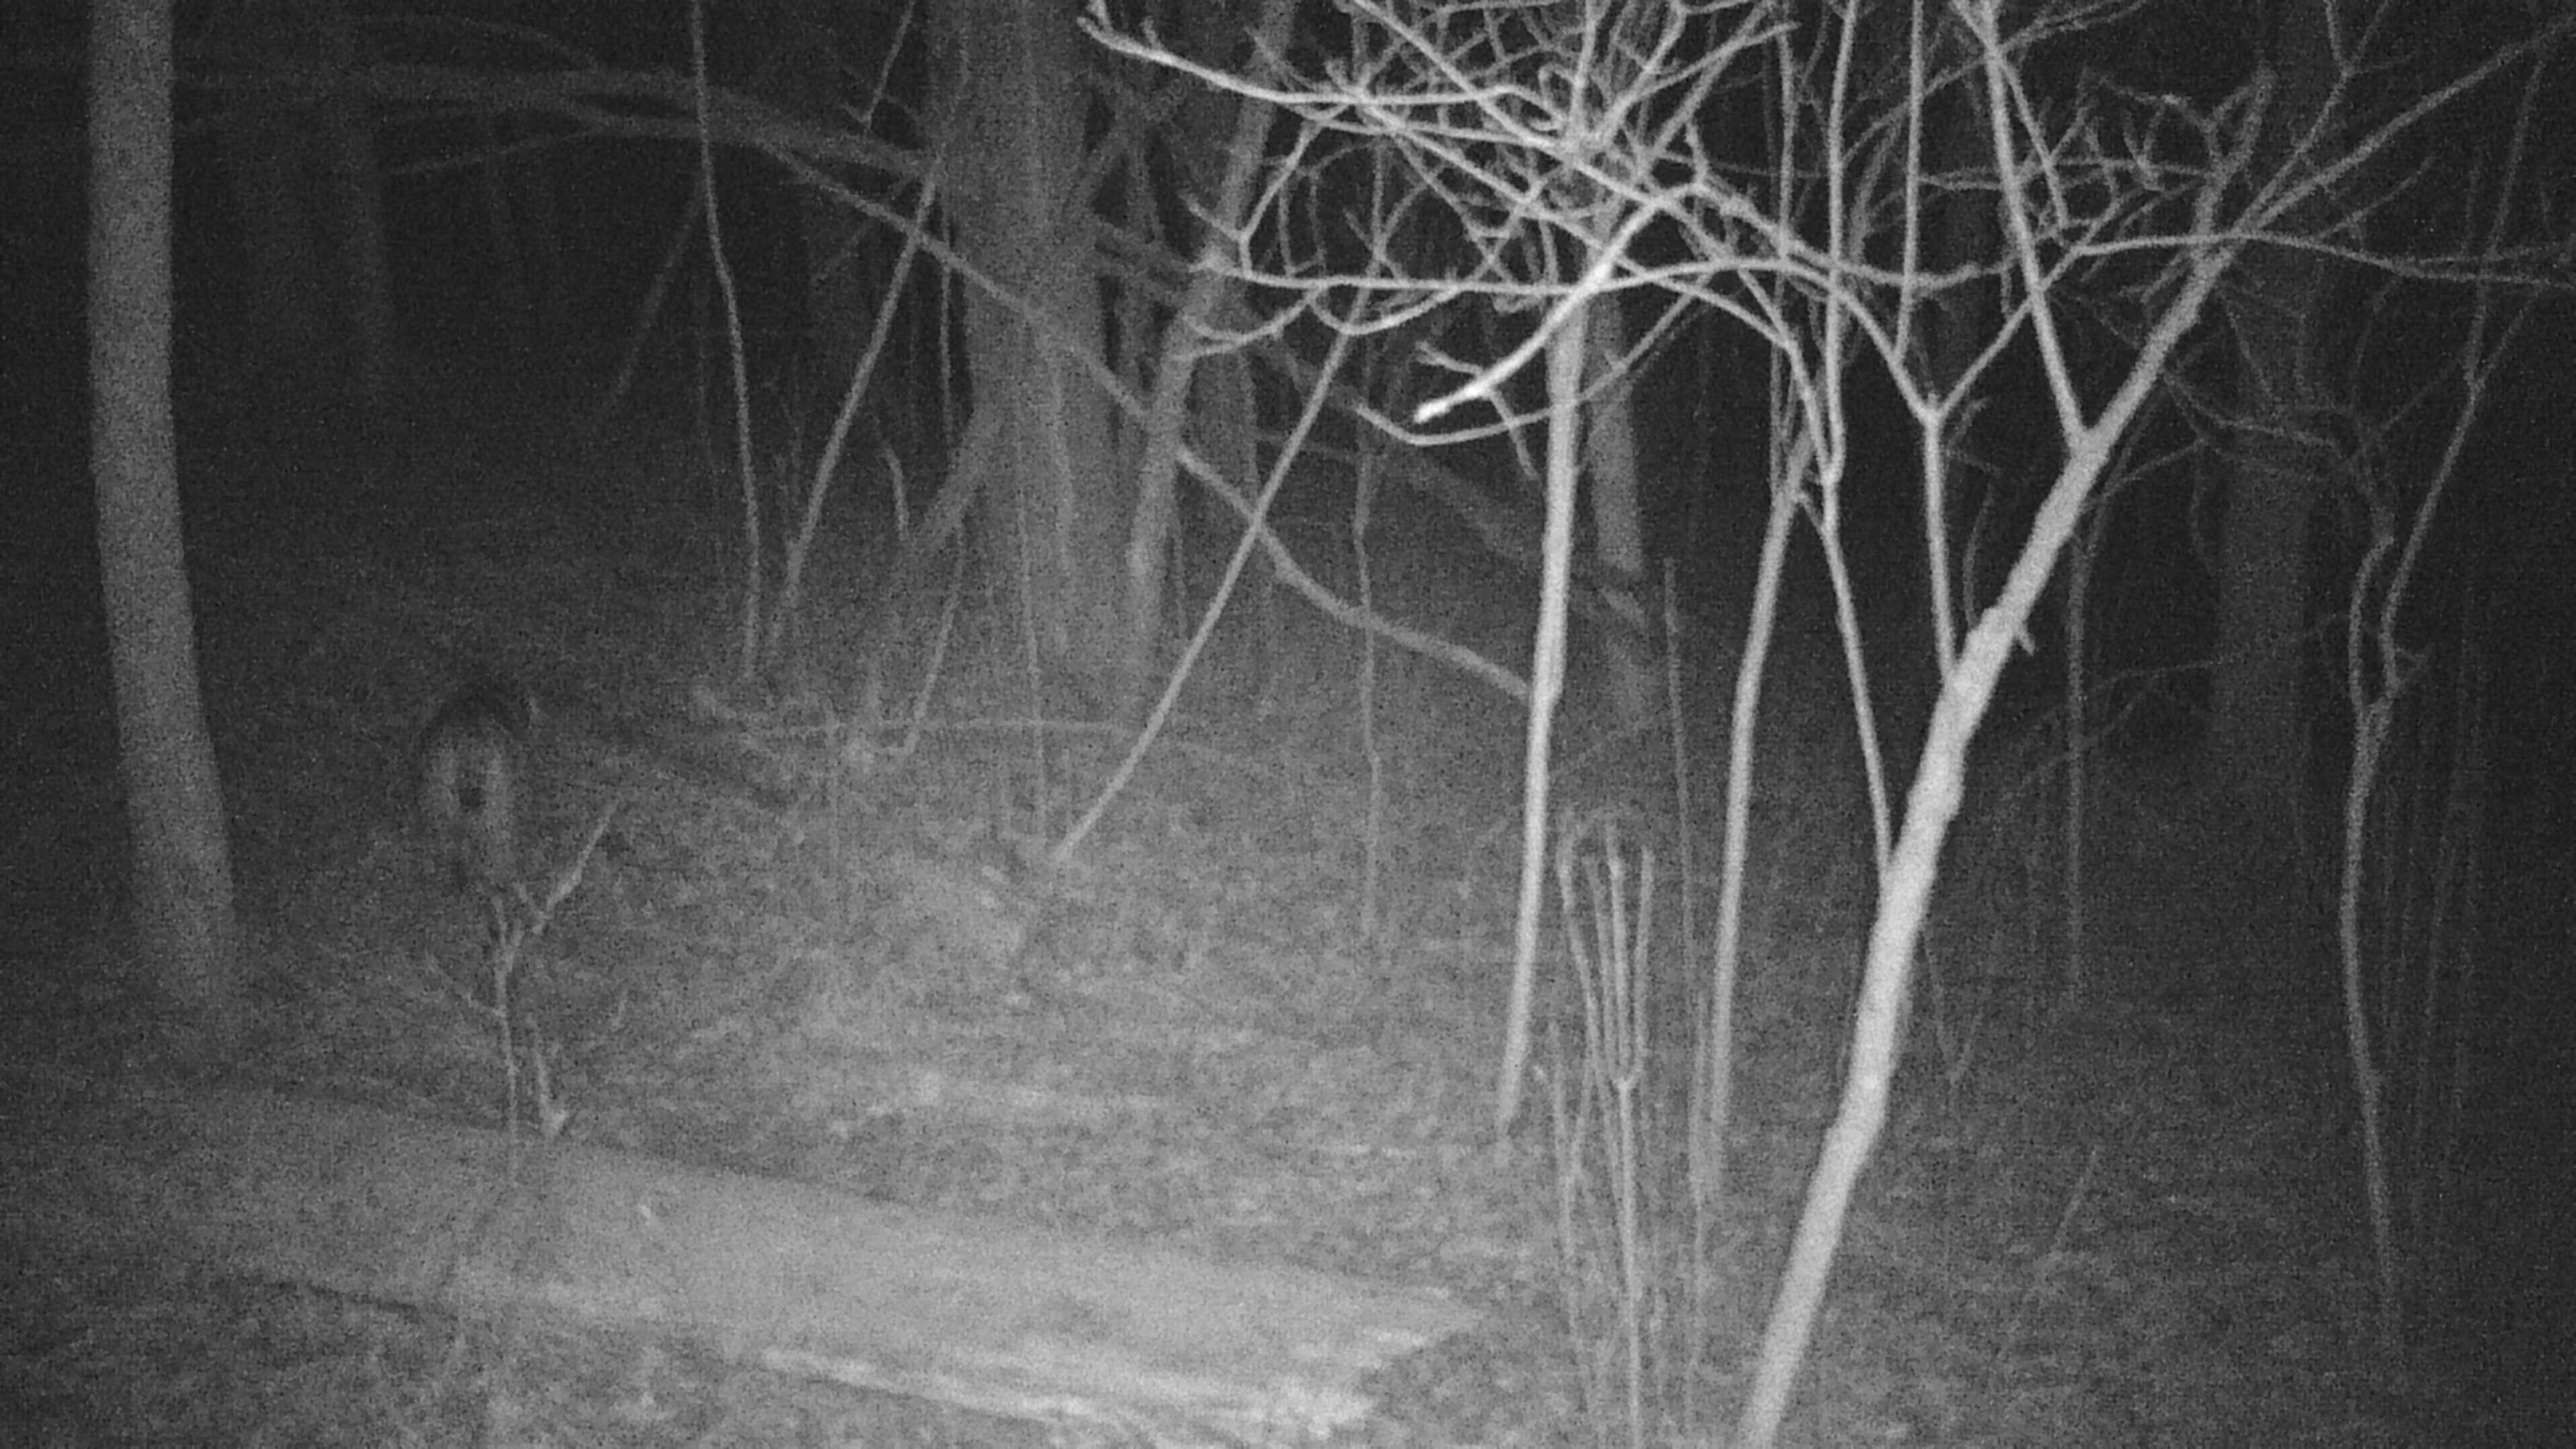Bobcat: (412, 674, 534, 901)
